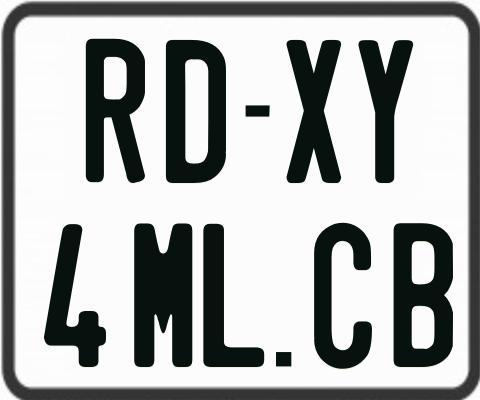4: (44, 221, 106, 364)
B: (392, 222, 455, 366)
C: (311, 221, 372, 370)
D: (166, 37, 232, 180)
L: (201, 221, 262, 366)
M: (131, 223, 195, 368)
R: (86, 38, 149, 182)
X: (284, 39, 343, 182)
Y: (357, 37, 412, 184)
